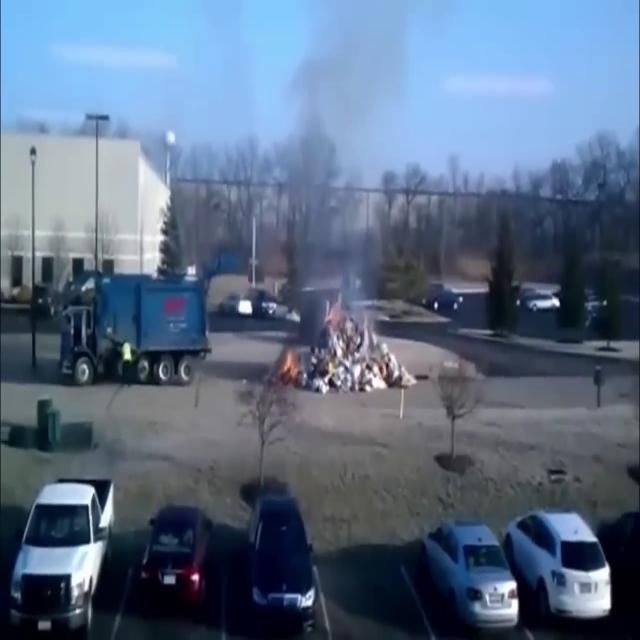Smoke: (202, 11, 388, 316)
